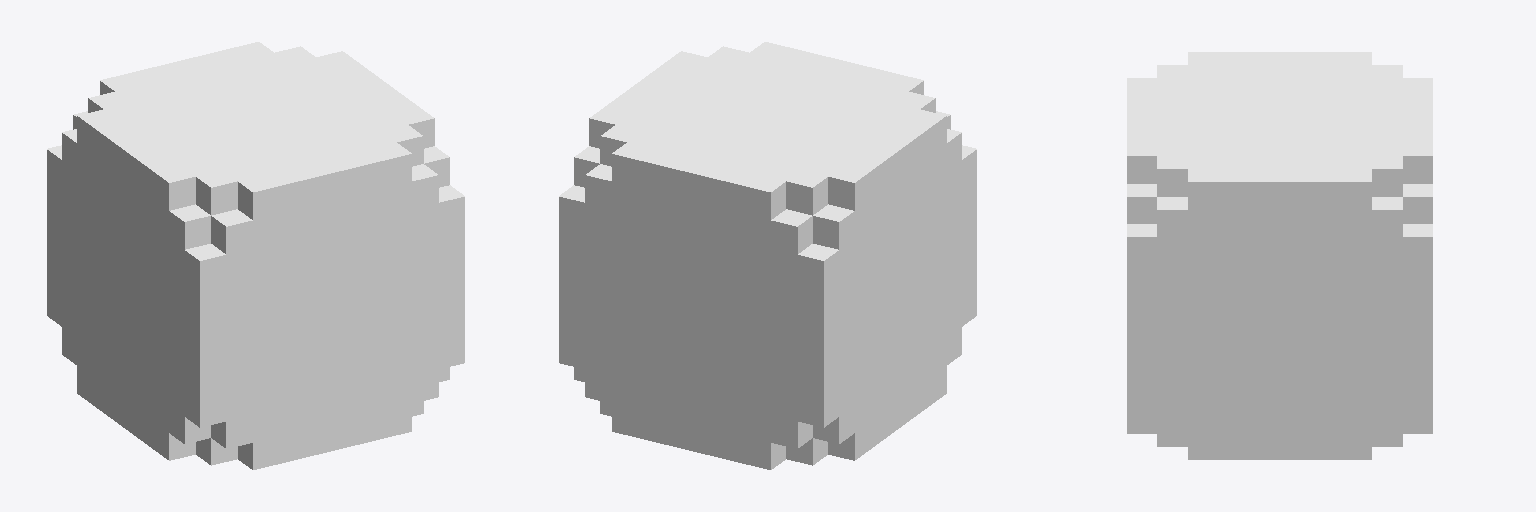
File: StoneStatic.obj
3 views of the same model, side by side, from view 1: azimuth 30°, elevation 25°; view 2: azimuth 150°, elevation 25°; view 3: azimuth 270°, elevation 25° (orthographic).
Visible parts, largest first — view 1: object 1; view 2: object 1; view 3: object 1.
Boxes of the visible parts, <box> form: object 1: <box>47,42,464,469</box>; object 1: <box>559,42,976,469</box>; object 1: <box>1127,52,1432,459</box>.
Bounding box in the file's own units: 1 × 1 × 1.